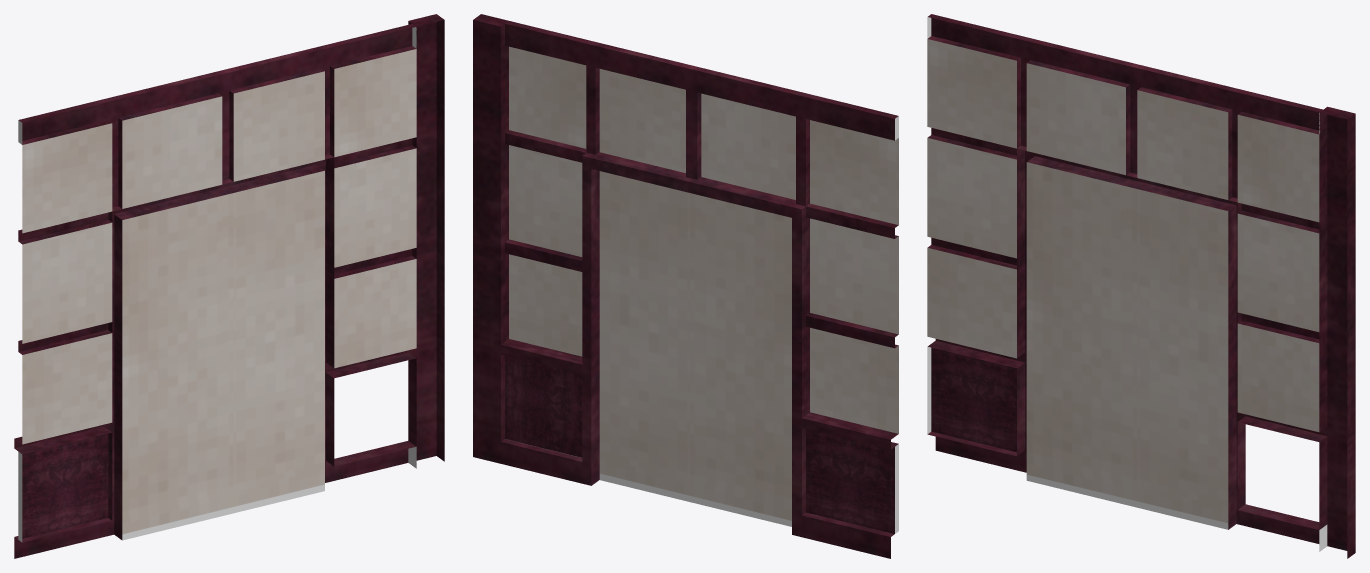
File: NNJ0510074.fbx
3 views of the same model, side by side, from view 1: azimuth 30°, elevation 25°; view 2: azimuth 150°, elevation 25°; view 3: azimuth 330°, elevation 25° (orthographic).
Visible parts, largest first — view 1: smNNJ0510074; view 2: smNNJ0510074; view 3: smNNJ0510074.
Part boxes in pixels (bbox=[...]): smNNJ0510074: bbox=[14, 14, 444, 558]; smNNJ0510074: bbox=[473, 14, 898, 558]; smNNJ0510074: bbox=[927, 14, 1355, 558].
Size of the model in its own units: 276 by 276 by 9.21.
Materials: 1 (1 with a texture image).
